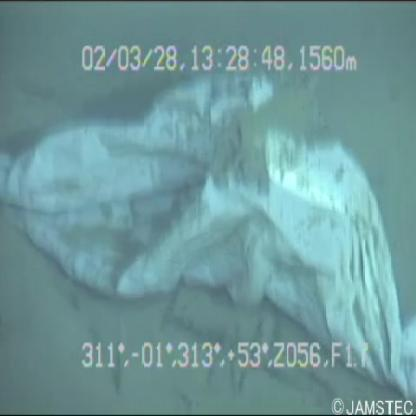Rác: (5, 82, 415, 410)
